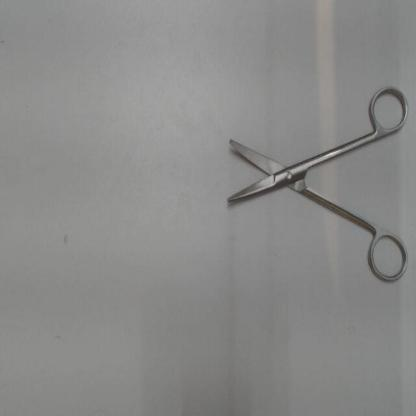Curved Mayo Scissors: (217, 79, 412, 293)
